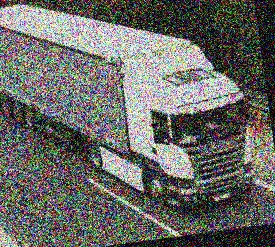truck: (0, 0, 261, 235)
